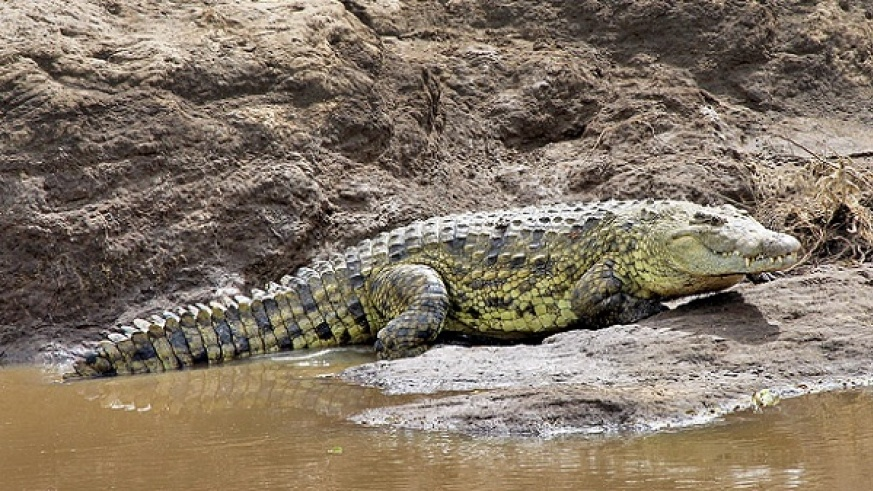crocodile: (55, 193, 803, 388)
